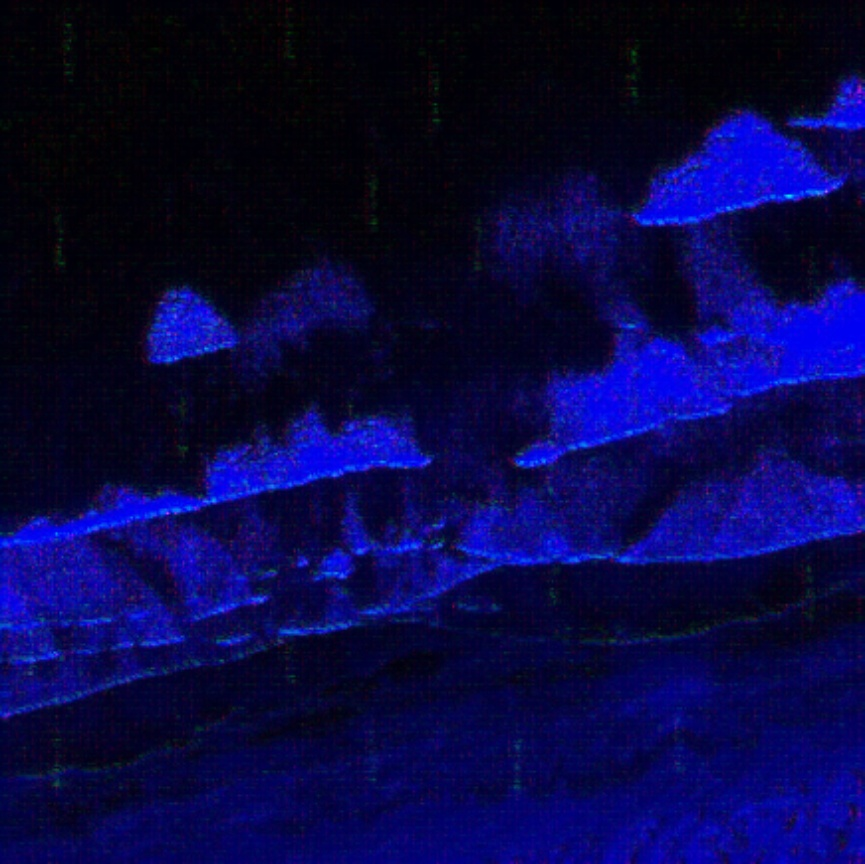rip_current: (335, 181, 546, 533)
